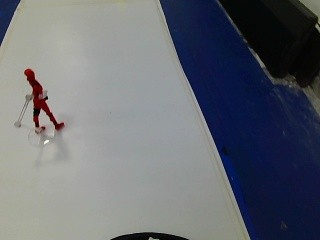pedestrian: (12, 61, 71, 140)
